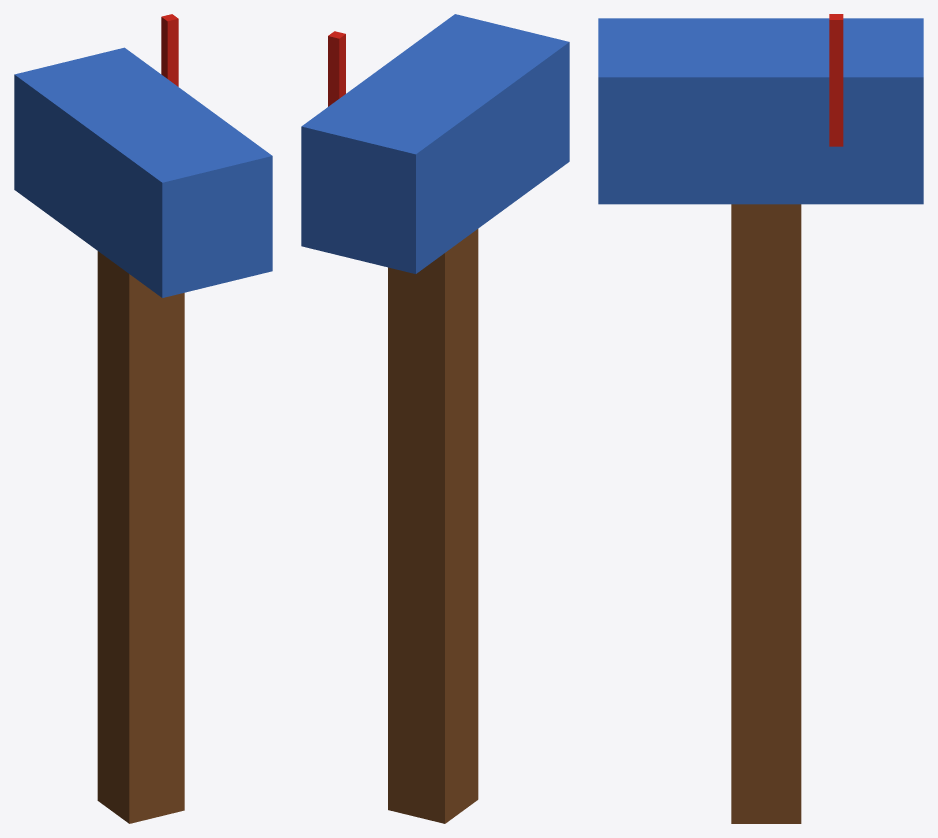
File: patio_mailbox_post.glb
3 renders of one model, left to right at view 1: azimuth 30°, elevation 25°; view 2: azimuth 150°, elevation 25°; view 3: azimuth 270°, elevation 25°, orthographic. The views are drawn at different scales.
Visible parts, largest first — view 1: mailbox_post; view 2: mailbox_post; view 3: mailbox_post.
Boxes of the visible parts, box(x1,y1,x2,y2) form: mailbox_post: box(14, 14, 272, 823); mailbox_post: box(301, 14, 569, 823); mailbox_post: box(598, 14, 923, 823).
Bounding box in the file's own units: 0.22 × 1.3 × 0.465.
